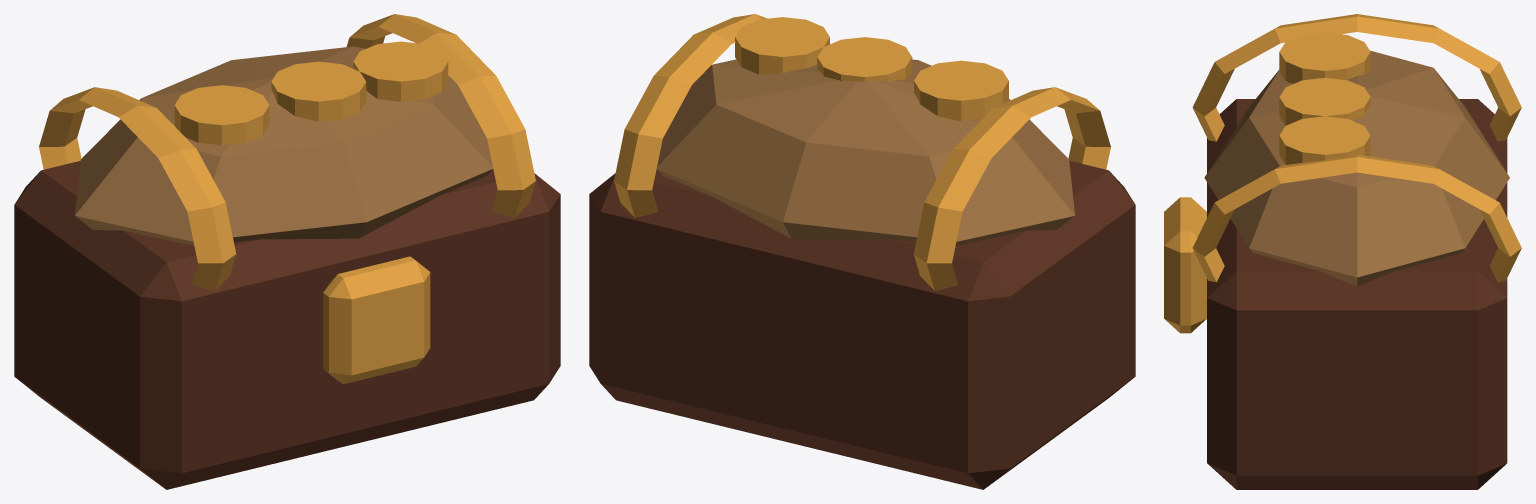
File: chest.glb
The picture shows the model from 3 angles, left to right: view 1: azimuth 30°, elevation 25°; view 2: azimuth 150°, elevation 25°; view 3: azimuth 270°, elevation 25°; orthographic projection. The views are drawn at different scales.
Visible parts, largest first — view 1: chest_Surface; view 2: chest_Surface; view 3: chest_Surface.
Part boxes in pixels (x1=…): chest_Surface: x1=14, y1=14, x2=560, y2=489; chest_Surface: x1=589, y1=14, x2=1135, y2=489; chest_Surface: x1=1164, y1=14, x2=1521, y2=489.
Size of the model in its own units: 0.88 by 0.6523 by 0.667.
Materials: 1 (1 with a texture image).
